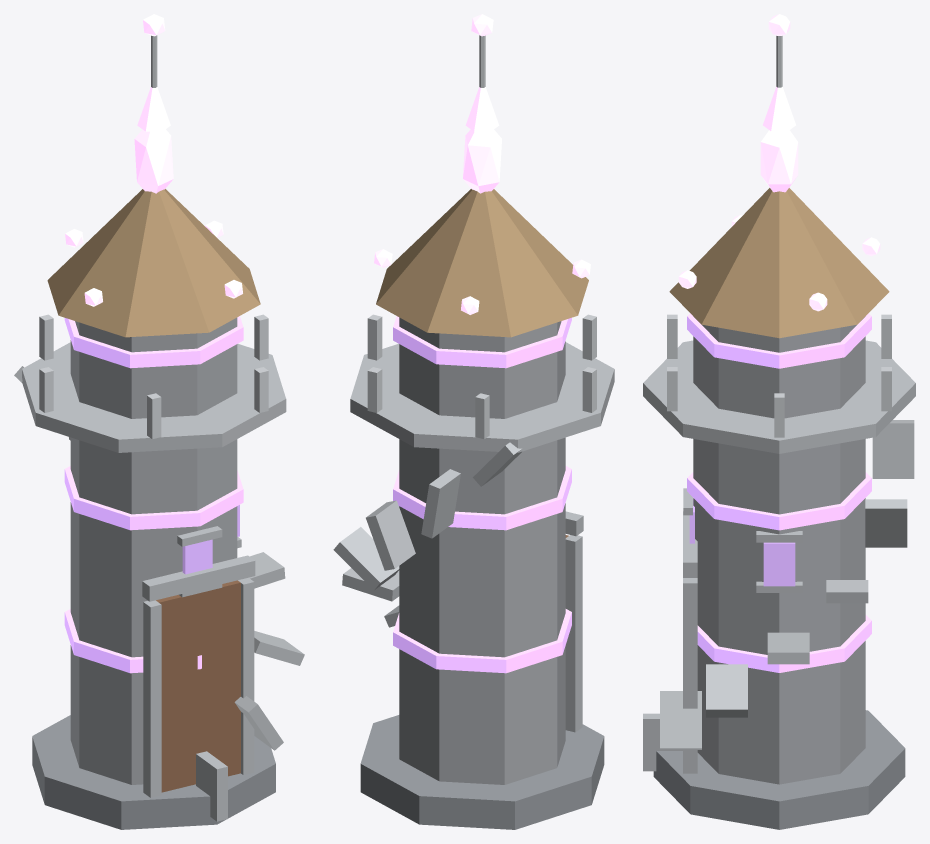
File: wizard_tower.glb
3 views of the same model, side by side, from view 1: azimuth 30°, elevation 25°; view 2: azimuth 150°, elevation 25°; view 3: azimuth 270°, elevation 25° (orthographic).
Parts seen in each view (by area): view 1: shaft.001, roof.001, door_leaf.004, balcony, base, door_jamb.008, arcane_band.001, arcane_band.002, door_lintel.004, door_jamb.009, crystal, spiral_step (+12 smaller); view 2: shaft.001, roof.001, base, balcony, door_jamb.008, arcane_band, arcane_band.002, arcane_band.001, spiral_step.005, crystal, spiral_step.004, spiral_step.006 (+8 smaller); view 3: shaft.001, roof.001, base, balcony, arcane_band.001, arcane_band.002, arcane_band, spiral_step.006, door_jamb.009, spiral_step.002, spiral_step.001, spiral_step.005 (+7 smaller).
Boxes of the visible parts, bbox=[...] form: shaft.001: bbox=[70, 317, 237, 784]; roof.001: bbox=[47, 189, 260, 337]; door_leaf.004: bbox=[156, 580, 240, 792]; balcony: bbox=[22, 342, 286, 452]; base: bbox=[32, 715, 275, 829]; door_jamb.008: bbox=[143, 600, 161, 797]; arcane_band.001: bbox=[64, 466, 243, 530]; arcane_band.002: bbox=[64, 316, 243, 368]; door_lintel.004: bbox=[142, 555, 255, 601]; door_jamb.009: bbox=[238, 577, 254, 775]; crystal: bbox=[134, 129, 173, 193]; spiral_step: bbox=[196, 751, 227, 821]; shaft.001: bbox=[399, 317, 565, 784]; roof.001: bbox=[376, 189, 588, 337]; base: bbox=[360, 715, 604, 829]; balcony: bbox=[350, 342, 614, 452]; door_jamb.008: bbox=[565, 535, 582, 732]; arcane_band: bbox=[393, 609, 571, 673]; arcane_band.002: bbox=[393, 316, 571, 368]; arcane_band.001: bbox=[393, 466, 571, 530]; spiral_step.005: bbox=[366, 500, 415, 570]; crystal: bbox=[463, 129, 501, 193]; spiral_step.004: bbox=[333, 527, 399, 590]; spiral_step.006: bbox=[421, 469, 460, 538]; shaft.001: bbox=[693, 316, 865, 784]; roof.001: bbox=[669, 188, 889, 338]; base: bbox=[653, 710, 905, 829]; balcony: bbox=[643, 340, 915, 453]; arcane_band.001: bbox=[687, 472, 871, 530]; arcane_band.002: bbox=[687, 313, 871, 368]; arcane_band: bbox=[697, 615, 871, 672]; spiral_step.006: bbox=[872, 420, 914, 478]; door_jamb.009: bbox=[683, 578, 697, 773]; spiral_step.002: bbox=[706, 664, 747, 717]; spiral_step.001: bbox=[660, 691, 701, 749]; spiral_step.005: bbox=[865, 499, 907, 547].
Bounding box in the file's own units: 2.68 × 8.02 × 2.6.
